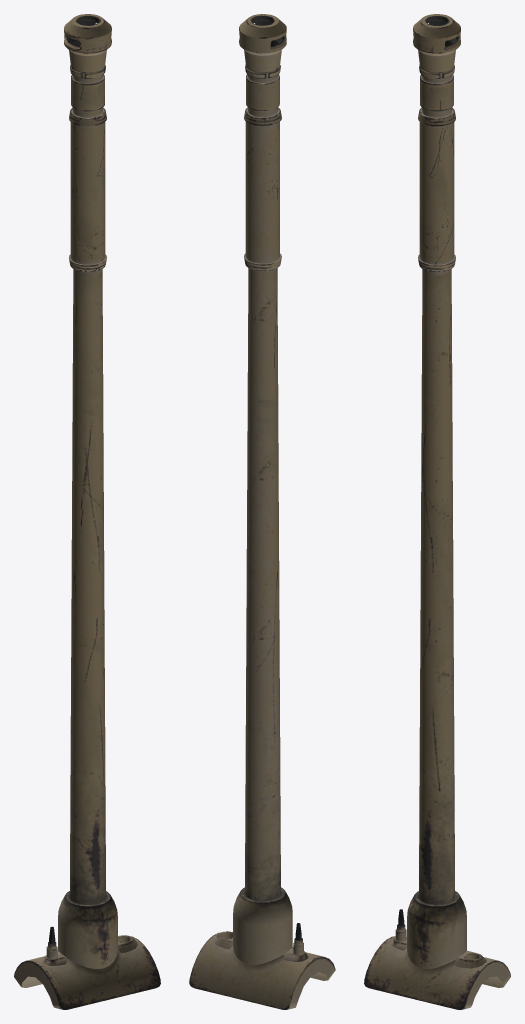
The model's file is Gun_02.glb.
3 renders of one model, left to right at view 1: azimuth 30°, elevation 25°; view 2: azimuth 150°, elevation 25°; view 3: azimuth 330°, elevation 25°, orthographic.
Parts seen in each view (by area): view 1: set_0_group_0; view 2: set_0_group_0; view 3: set_0_group_0.
Part boxes in pixels (x1=…): set_0_group_0: x1=14, y1=14, x2=160, y2=1009; set_0_group_0: x1=189, y1=14, x2=335, y2=1009; set_0_group_0: x1=364, y1=14, x2=510, y2=1009.
Bounding box in the file's own units: 0.68 × 6.23 × 0.5634.
Materials: 1 (1 with a texture image).
